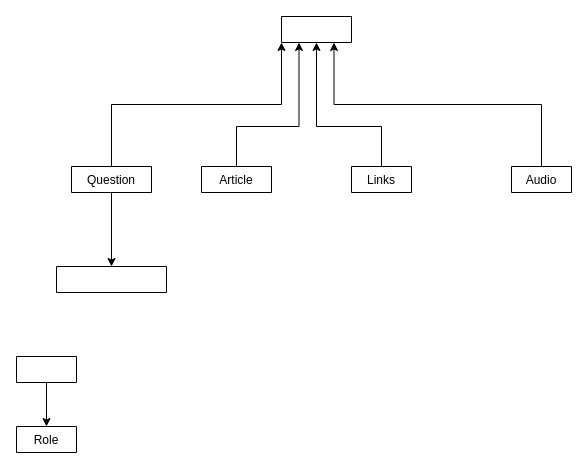
The diagram is 588 pixels wide and 469 high, and some of its shapes have lost their labels. The shapes that lost their labels are listed below. From the top down, each one's box as (x1, y1, x2, y2) in pixels, then its label:
(280, 16, 352, 42): Module
(56, 266, 166, 292): QuestionType
(16, 356, 76, 382): User
